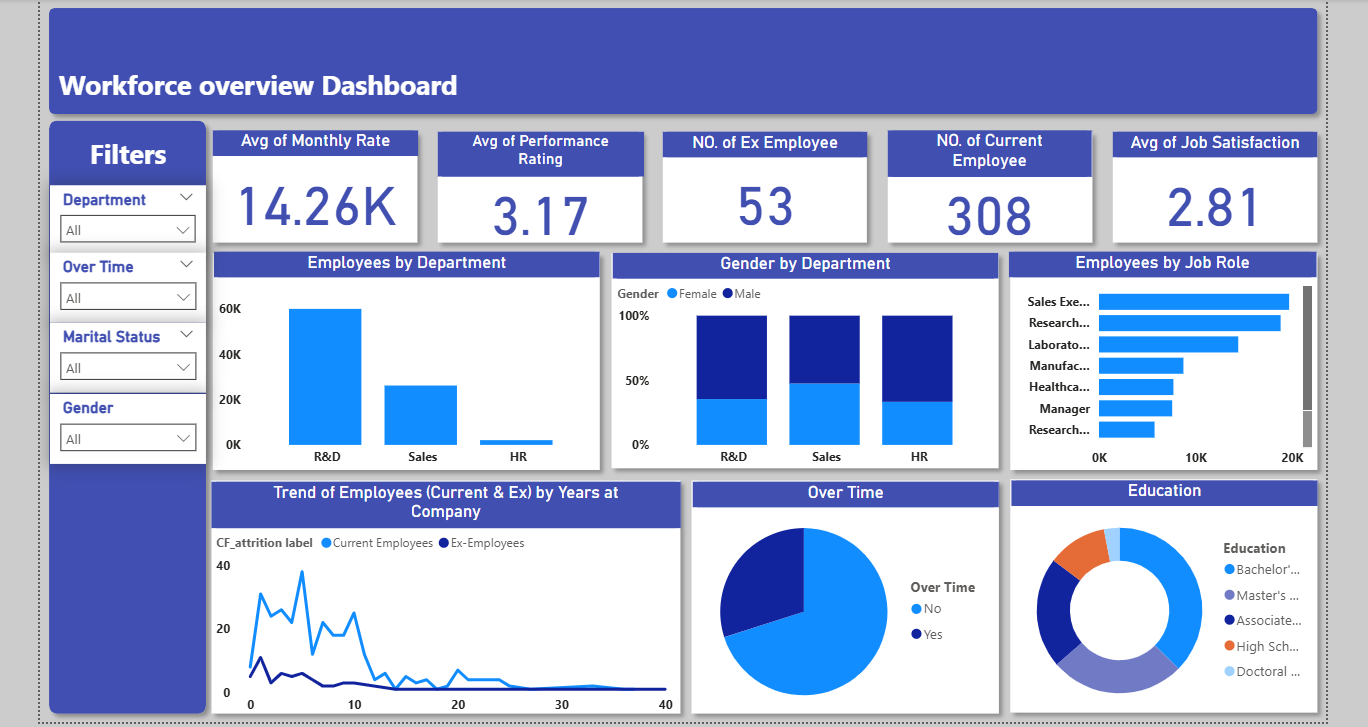

The page's visual inventory and layout, read from the dashboard file:
{"tool":"powerbi","page":{"name":"Page 1","canvas":[1280,720],"ordinal":0},"visuals":[{"type":"shape","box":[834.6,123.2,221.4,128.1],"z":0},{"type":"shape","box":[387,123.2,221.4,128.1],"z":1000},{"type":"shape","box":[0,0,1280.3,123.5],"z":2000},{"type":"shape","box":[0,112,174.2,608.3],"z":3000},{"type":"textbox","box":[12.4,130.6,150.5,46],"z":4000},{"type":"card","title":"Avg of Performance Rating","fields":{"Values":["Avg(Sheet1.Performance Rating)"]},"box":[395.6,131.9,205.3,114.4],"z":5000},{"type":"shape","box":[163,123.2,221.4,128.1],"z":6000},{"type":"card","title":"Avg of Monthly Rate","fields":{"Values":["Avg(Sheet1.Monthly Rate)"]},"box":[171.7,130.6,205,115.7],"z":7000},{"type":"shape","box":[611,123.2,221,128.1],"z":8000},{"type":"card","title":"NO. of Ex Employee","fields":{"Values":["CountNonNull(Sheet1.CF_attrition label)"]},"box":[619.5,131.9,204,114.4],"z":9000},{"type":"shape","box":[1058.6,123.2,221.4,128.1],"z":10000},{"type":"card","title":"Avg of Job Satisfaction","fields":{"Values":["Avg(Sheet1.Job Satisfaction)"]},"box":[1067.3,131.9,204,115],"z":11000},{"type":"shape","box":[163,243.8,403,233.9],"z":12000},{"type":"shape","box":[559.8,243.8,403,232],"z":13000},{"type":"shape","box":[956.6,243.8,323.4,233.9],"z":14000},{"type":"shape","box":[161.9,470.2,484.4,249.7],"z":15000},{"type":"shape","box":[956.6,469,323.4,250],"z":16000},{"type":"card","title":"NO. of Current Employee","fields":{"Values":["CountNonNull(Sheet1.CF_attrition label)"]},"box":[843.9,130.4,203.1,115.3],"z":17000},{"type":"clusteredColumnChart","title":"Employees by Department","fields":{"Category":["Sheet1.Department"],"Y":["Sum(Sheet1.Employee Number)","Sum(Sheet1.Employee Number)"]},"box":[172.9,251.3,384.4,222.7],"z":18000},{"type":"hundredPercentStackedColumnChart","title":"Gender by Department","fields":{"Category":["Sheet1.Department"],"Series":["Sheet1.Gender"],"Y":["CountNonNull(Sheet1.Gender)"]},"box":[569.7,252.5,384.4,221.4],"z":19000},{"type":"barChart","title":"Employees by Job Role","fields":{"Y":["Sum(Sheet1.Employee Number)"],"Category":["Sheet1.Job Role"]},"box":[964.1,251.3,306,223.9],"z":20000},{"type":"lineChart","title":"Trend of Employees (Current & Ex) by Years at Company","fields":{"Y":["CountNonNull(Sheet1.CF_attrition label)"],"Category":["Sheet1.Years At Company"],"Series":["Sheet1.CF_attrition label"]},"box":[170.2,479.8,467,240.1],"z":21000},{"type":"shape","box":[639.5,470.2,323.8,249.7],"z":22000},{"type":"pieChart","title":"Over Time","fields":{"Category":["Sheet1.Over Time"],"Y":["CountNonNull(Sheet1.Over Time)"]},"box":[649.1,480.3,305,238.8],"z":23000},{"type":"donutChart","title":"Education","fields":{"Category":["Sheet1.Education"],"Y":["CountNonNull(Sheet1.Education)"]},"box":[966.6,478.9,305,238.8],"z":24000},{"type":"slicer","title":"Avg of Monthly Rate","fields":{"Values":["Sheet1.Department"]},"box":[10,185.3,155,70],"z":25000},{"type":"slicer","title":"Avg of Monthly Rate","fields":{"Values":["Sheet1.Over Time"]},"box":[10,252.5,155.5,69.7],"z":26000},{"type":"slicer","title":"Avg of Monthly Rate","fields":{"Values":["Sheet1.Marital Status"]},"box":[10,322.2,155.5,69.7],"z":27000},{"type":"slicer","title":"Avg of Monthly Rate","fields":{"Values":["Sheet1.Gender"]},"box":[10,393.1,155.5,69.7],"z":28000},{"type":"textbox","box":[12.4,62.2,416.7,46],"z":29000}]}

Visuals, with their boxes in screenshot pixels (x1, y1, x2, y2):
shape: 874/123/1094/250
shape: 428/123/648/250
shape: 43/0/1317/123
shape: 43/111/216/717
textbox: 55/130/205/176
"Avg of Performance Rating" card: 437/131/641/245
shape: 205/123/425/250
"Avg of Monthly Rate" card: 214/130/418/245
shape: 651/123/871/250
"NO. of Ex Employee" card: 659/131/862/245
shape: 1097/123/1317/250
"Avg of Job Satisfaction" card: 1105/131/1308/246
shape: 205/243/606/476
shape: 600/243/1001/474
shape: 995/243/1317/476
shape: 204/468/686/717
shape: 995/467/1317/716
"NO. of Current Employee" card: 883/130/1085/245
"Employees by Department" clusteredColumnChart: 215/250/597/472
"Gender by Department" hundredPercentStackedColumnChart: 610/251/992/472
"Employees by Job Role" barChart: 1002/250/1307/473
"Trend of Employees (Current & Ex) by Years at Company" lineChart: 212/478/677/717
shape: 679/468/1002/717
"Over Time" pieChart: 689/478/992/716
"Education" donutChart: 1005/477/1309/714
"Avg of Monthly Rate" slicer: 53/184/207/254
"Avg of Monthly Rate" slicer: 53/251/207/321
"Avg of Monthly Rate" slicer: 53/321/207/390
"Avg of Monthly Rate" slicer: 53/391/207/461
textbox: 55/62/470/108
